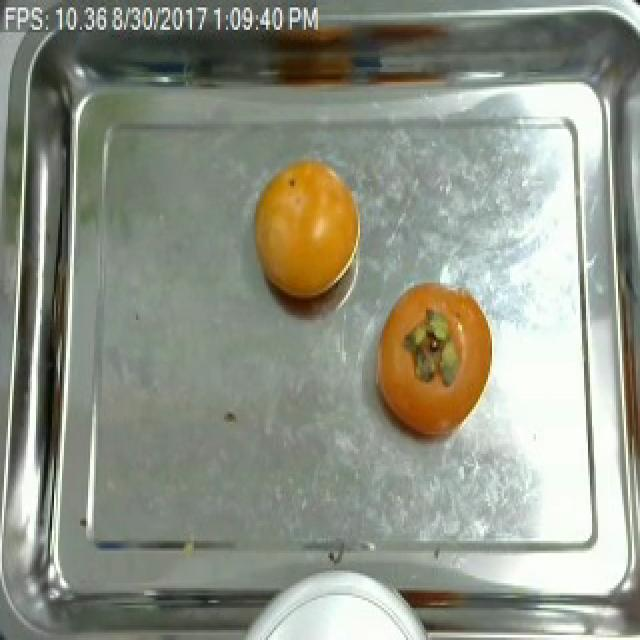Fruit: (366, 268, 502, 456), (246, 151, 364, 310)
